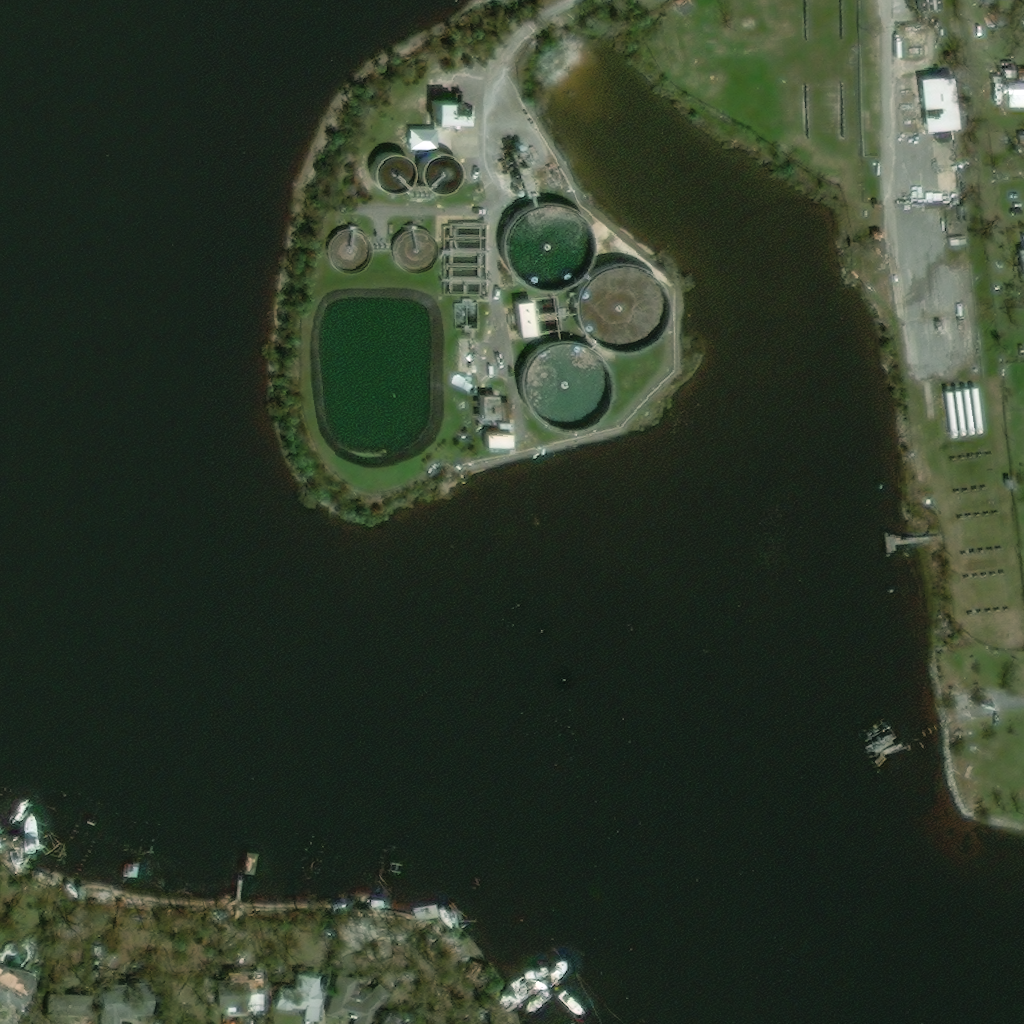destroyed: (962, 320, 972, 333), (938, 323, 946, 336)
major_damage: (916, 77, 963, 133), (213, 993, 253, 1018), (854, 723, 888, 751), (1001, 86, 1023, 110), (223, 970, 248, 986), (872, 232, 887, 257), (922, 0, 947, 13), (1017, 72, 1023, 83), (879, 204, 886, 212)
minor_damage: (279, 974, 321, 1023), (0, 965, 29, 1005), (476, 395, 509, 420)
no_damage: (92, 981, 156, 1023), (327, 973, 358, 1017), (512, 300, 539, 340), (422, 100, 462, 124), (457, 339, 478, 377), (409, 130, 438, 151), (479, 429, 507, 448), (379, 1013, 405, 1023), (952, 238, 973, 249), (1006, 480, 1016, 492)
unclassified: (675, 0, 695, 17), (1005, 135, 1019, 151)
